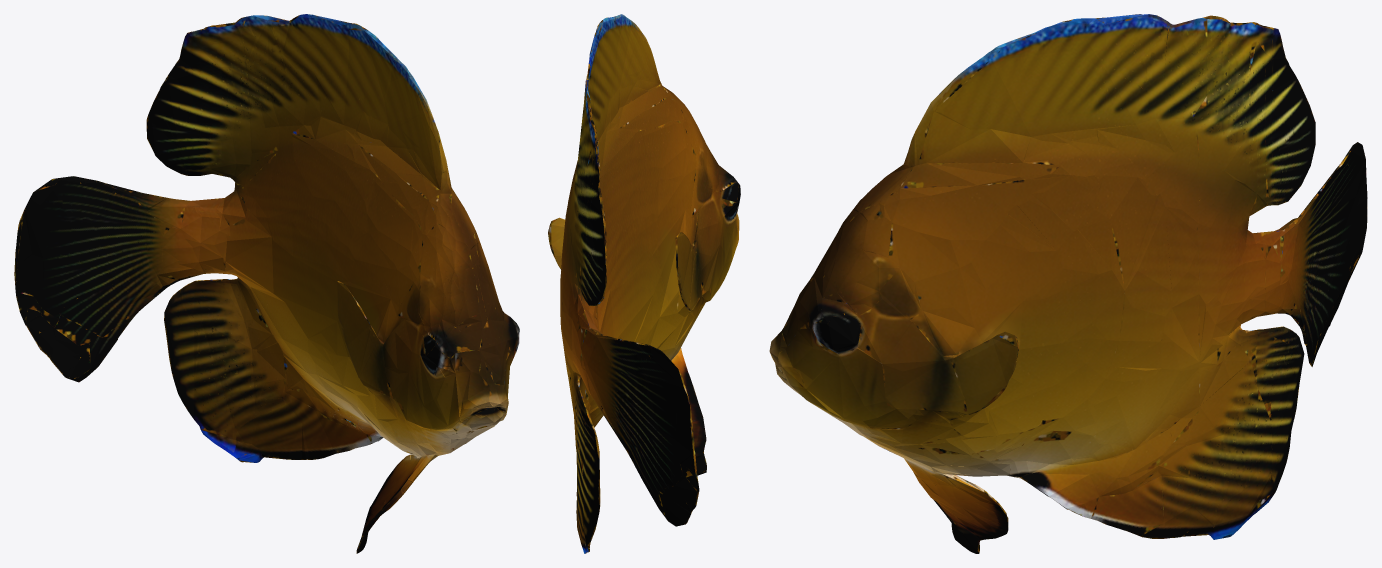
Rendered from fish_0089_smpl23_resized.glb.
The picture shows the model from 3 angles, left to right: view 1: azimuth 30°, elevation 25°; view 2: azimuth 150°, elevation 25°; view 3: azimuth 270°, elevation 25°; orthographic projection. The views are drawn at different scales.
Visible parts, largest first — view 1: world; view 2: world; view 3: world.
Part boxes in pixels (left/top/right/bottom): world: left=14, top=14, right=519, bottom=553; world: left=548, top=14, right=740, bottom=553; world: left=769, top=14, right=1367, bottom=553.
Size of the model in its own units: 1.29 by 1.99 by 1.94.
1 material, 1 textured.
